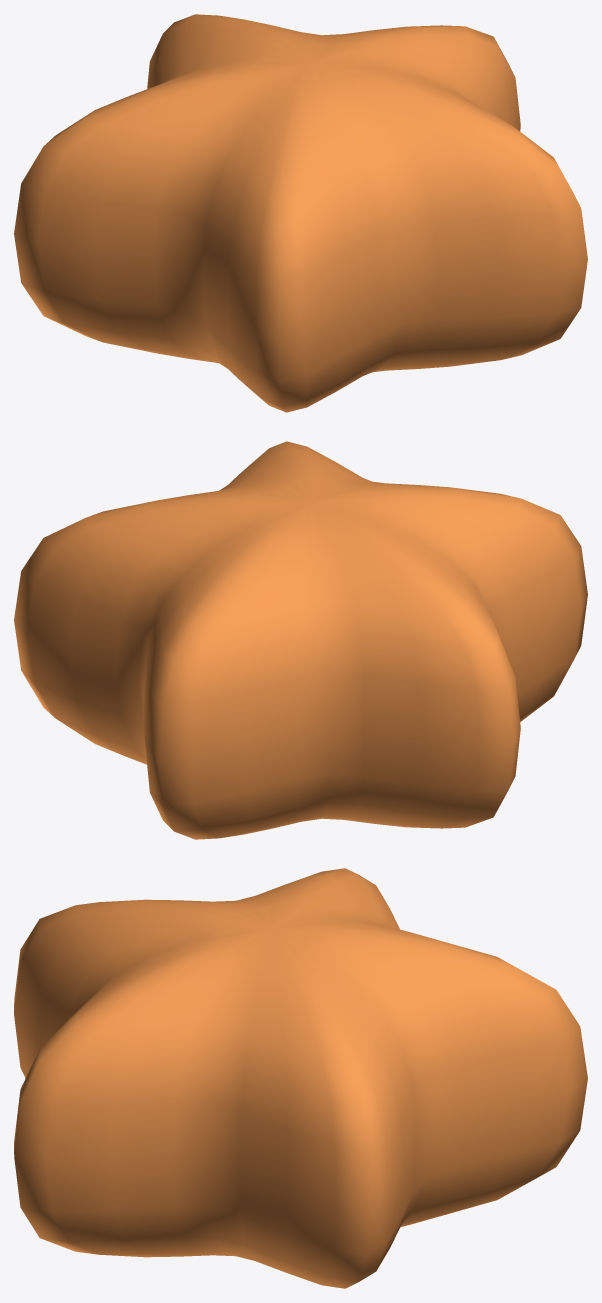
File: Mintstar_02.fbx
The picture shows the model from 3 angles, top to bottom: view 1: azimuth 30°, elevation 25°; view 2: azimuth 150°, elevation 25°; view 3: azimuth 270°, elevation 25°; orthographic projection. The views are drawn at different scales.
Visible parts, largest first — view 1: Mintstar_02_LOD0; view 2: Mintstar_02_LOD0; view 3: Mintstar_02_LOD0.
Boxes of the visible parts, x1,y1,x2,y2 form: Mintstar_02_LOD0: (14, 14, 587, 412); Mintstar_02_LOD0: (14, 441, 587, 839); Mintstar_02_LOD0: (14, 868, 587, 1288).
Size of what is drawn, in the model's own units: 447 by 246 by 426.
